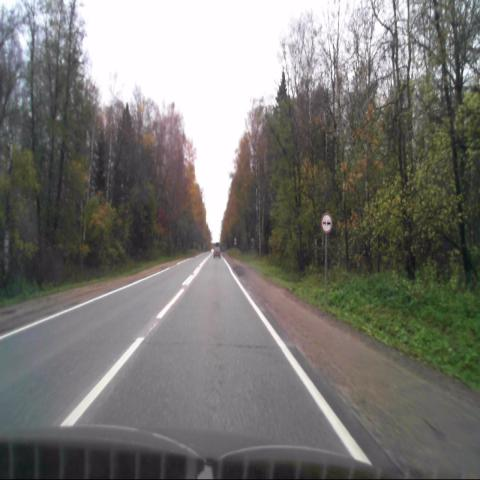3_20: (320, 212, 332, 234)
